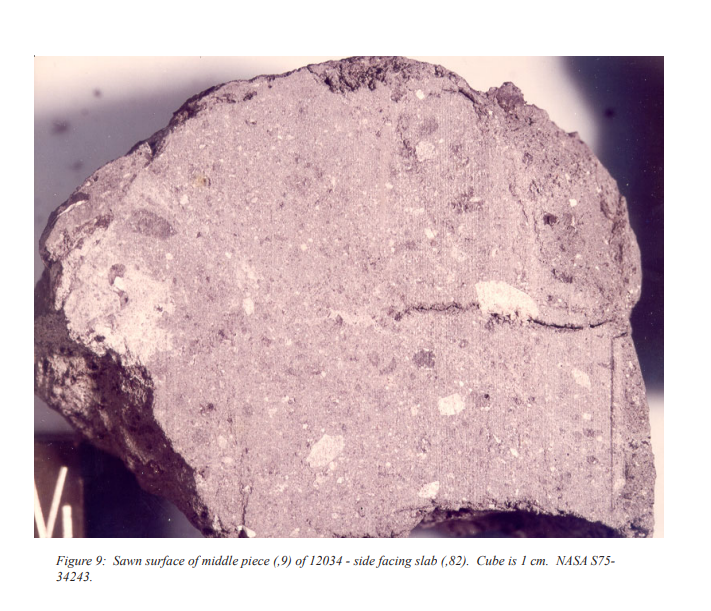Breccia: (55, 86, 659, 513)
